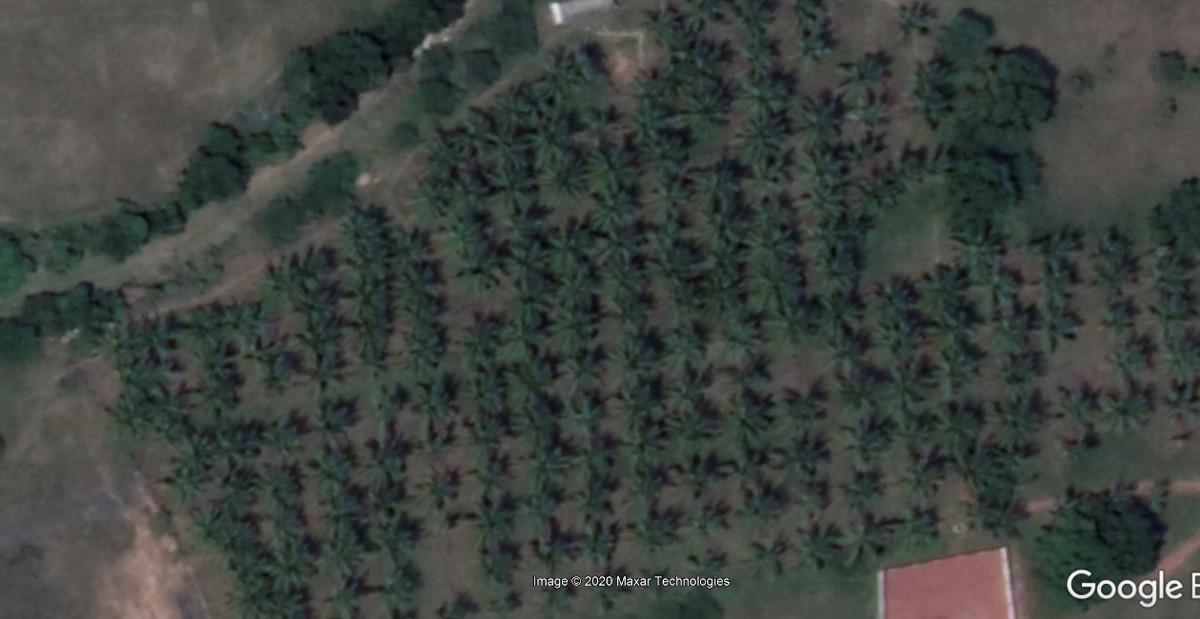coconut: (358, 430, 414, 498), (985, 395, 1049, 453), (927, 399, 988, 457), (833, 53, 891, 112), (596, 250, 650, 313), (489, 82, 548, 139), (866, 273, 920, 334), (812, 279, 865, 341), (582, 153, 647, 203), (704, 314, 759, 373), (967, 486, 1033, 535), (101, 393, 156, 450), (1100, 376, 1154, 434), (913, 60, 967, 118), (692, 154, 742, 216), (837, 516, 892, 572), (828, 355, 883, 411), (740, 216, 806, 262), (1044, 379, 1097, 436), (778, 431, 842, 478), (1029, 294, 1080, 352), (660, 395, 725, 440), (788, 91, 843, 143), (543, 308, 599, 359), (725, 384, 775, 441), (739, 105, 789, 162), (886, 355, 940, 407), (485, 159, 540, 210), (761, 300, 812, 355), (920, 266, 978, 314), (933, 334, 987, 385), (397, 263, 446, 319), (1149, 281, 1196, 339), (691, 254, 738, 312), (809, 232, 860, 285), (308, 382, 362, 432), (665, 314, 710, 373), (542, 222, 594, 273), (609, 322, 658, 376), (854, 159, 909, 207), (299, 311, 346, 367), (323, 514, 370, 570), (538, 38, 583, 96), (582, 194, 640, 239), (683, 73, 732, 126), (541, 153, 589, 207), (625, 92, 673, 146), (195, 339, 242, 394), (793, 140, 857, 180), (499, 243, 550, 293), (405, 172, 457, 221), (371, 509, 423, 557), (951, 218, 997, 272), (746, 258, 801, 303), (629, 508, 681, 555), (185, 496, 234, 545), (843, 416, 891, 466), (349, 203, 397, 253), (725, 1, 786, 40), (791, 516, 836, 568), (1095, 337, 1152, 378), (208, 420, 256, 468), (261, 249, 302, 305), (1028, 221, 1079, 266), (521, 468, 573, 512), (470, 495, 520, 540), (576, 102, 621, 151), (346, 267, 390, 317), (402, 320, 447, 368), (267, 547, 317, 590), (378, 561, 429, 603), (742, 532, 789, 577), (551, 271, 598, 316), (681, 444, 728, 489), (461, 309, 500, 363), (1092, 255, 1140, 298), (272, 548, 321, 590), (637, 1, 683, 45), (573, 519, 616, 566), (630, 459, 673, 506), (689, 213, 739, 253), (443, 218, 487, 263), (800, 184, 851, 222), (470, 371, 511, 418), (478, 545, 528, 583), (900, 450, 942, 495), (172, 432, 218, 473), (266, 459, 310, 501), (266, 503, 308, 547), (95, 326, 139, 368), (228, 539, 272, 581), (417, 466, 460, 508), (838, 465, 882, 506), (231, 580, 277, 619), (449, 171, 488, 216), (257, 348, 298, 390), (217, 300, 257, 343), (740, 37, 786, 74), (473, 453, 514, 494), (650, 240, 692, 280), (412, 419, 455, 458), (500, 203, 540, 244), (893, 507, 938, 543), (564, 350, 604, 390), (656, 163, 694, 205), (1038, 257, 1081, 293), (145, 307, 188, 343), (298, 278, 342, 313), (415, 371, 457, 407), (575, 470, 616, 506), (316, 436, 351, 478), (257, 414, 297, 450), (740, 484, 781, 519), (781, 388, 823, 422), (1169, 371, 1200, 416), (684, 545, 727, 577), (797, 13, 829, 56), (569, 393, 610, 426), (1096, 304, 1140, 334), (326, 579, 366, 611), (692, 498, 725, 536), (896, 4, 932, 38), (218, 463, 257, 494)
